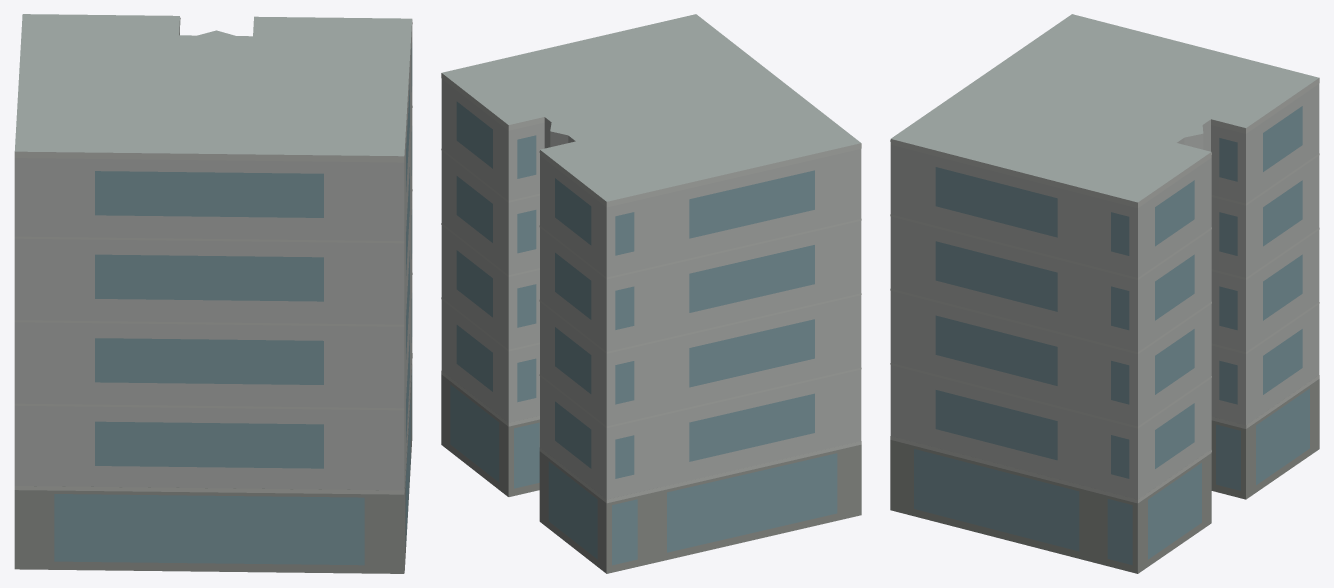
File: survey-upis-32741053.glb
3 renders of one model, left to right at view 1: azimuth 30°, elevation 25°; view 2: azimuth 150°, elevation 25°; view 3: azimuth 270°, elevation 25°, orthographic. The views are drawn at different scales.
Parts seen in each view (by area): view 1: survey-upis-32741053.tmp; view 2: survey-upis-32741053.tmp; view 3: survey-upis-32741053.tmp.
Boxes of the visible parts, left/top/right/bottom form: survey-upis-32741053.tmp: left=14, top=14, right=412, bottom=573; survey-upis-32741053.tmp: left=441, top=14, right=861, bottom=573; survey-upis-32741053.tmp: left=890, top=14, right=1319, bottom=573.
Bounding box in the file's own units: 17.44 × 16 × 16.77.
